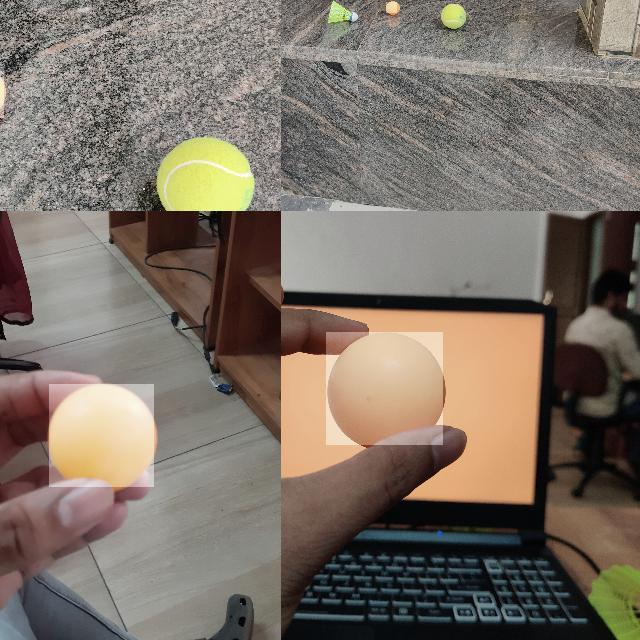ping-pong-ball: (326, 332, 444, 446), (49, 384, 155, 488), (386, 2, 398, 15)
